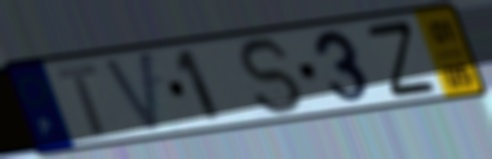1: (175, 46, 225, 126)
3: (311, 27, 378, 108)
S: (234, 35, 310, 117)
T: (53, 61, 110, 139)
V: (100, 47, 161, 136)
Z: (361, 17, 440, 101)
